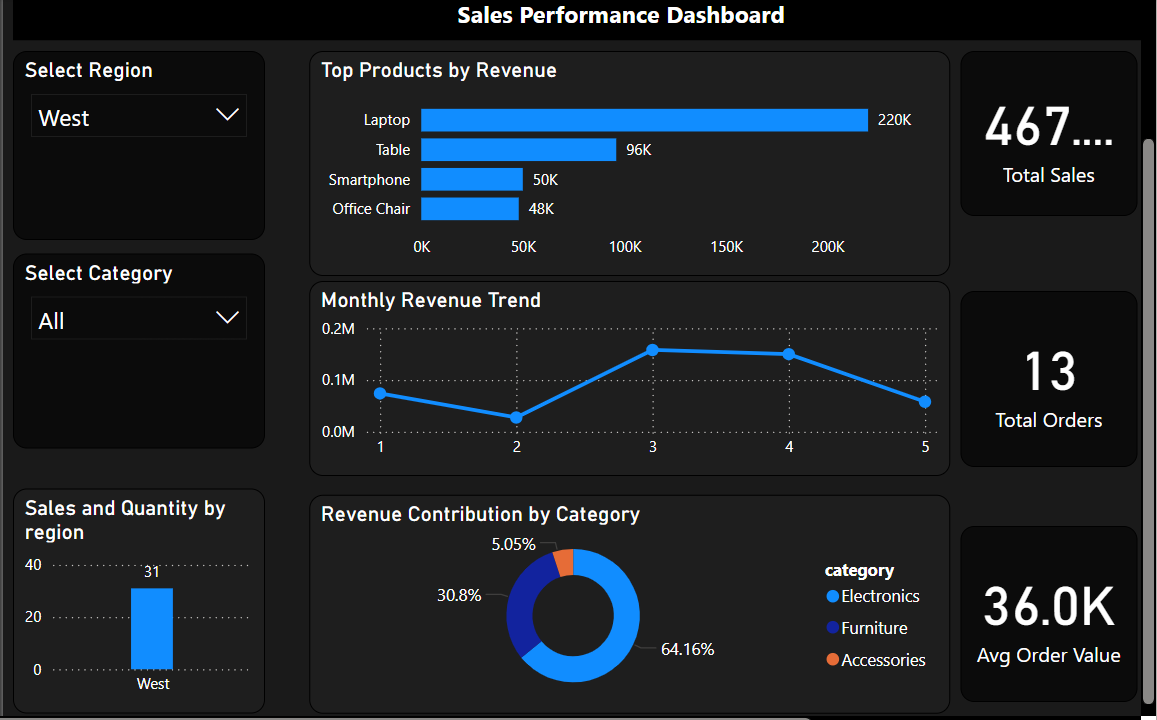

This screenshot's page, from the dashboard's own definition file:
{"tool":"powerbi","page":{"name":"Page 1","canvas":[1280,720],"ordinal":0},"visuals":[{"type":"donutChart","title":"Revenue Contribution  by Category","fields":{"Y":["Query1.total sales"],"Category":["Query1.category"]},"box":[245,531,513,175],"z":0},{"type":"lineChart","title":"Monthly Revenue Trend","fields":{"Y":["Query1.total sales"],"Category":["Query1.order_month"]},"box":[245,360,513,156],"z":1000},{"type":"clusteredColumnChart","title":"Sales and Quantity by region","fields":{"Category":["Query1.region"],"Y":["Sum(Query1.quantity)"]},"box":[8,526,202,180],"z":2000},{"type":"clusteredBarChart","title":"Top Products by Revenue","fields":{"Y":["Query1.total sales"],"Category":["Query1.product_name"]},"box":[245,176,513,180],"z":3000},{"type":"card","fields":{"Values":["Query1.total sales"]},"box":[766,176,142,132],"z":4000},{"type":"slicer","title":"Select Category","fields":{"Values":["Query1.category"]},"box":[8,338,202,156],"z":5000},{"type":"card","fields":{"Values":["Query1.Total Orders"]},"box":[766,368,142,141],"z":6000},{"type":"card","fields":{"Values":["Query1.Avg Order Value"]},"box":[766,556,142,141],"z":7000},{"type":"slicer","title":"Select Region","fields":{"Values":["Query1.region"]},"box":[8,176,202,151],"z":8000},{"type":"textbox","box":[8,129,974,38],"z":9000}]}

Visuals, with their boxes on the page's 1280x720 design canvas (x1, y1, x2, y2). These are canvas units, not pixel positions in the 1157x720 screenshot, which may show the page scaled, cropped or inside an application window:
"Revenue Contribution  by Category" donutChart: left=245, top=531, right=758, bottom=706
"Monthly Revenue Trend" lineChart: left=245, top=360, right=758, bottom=516
"Sales and Quantity by region" clusteredColumnChart: left=8, top=526, right=210, bottom=706
"Top Products by Revenue" clusteredBarChart: left=245, top=176, right=758, bottom=356
card - Query1.total sales: left=766, top=176, right=908, bottom=308
"Select Category" slicer: left=8, top=338, right=210, bottom=494
card - Query1.Total Orders: left=766, top=368, right=908, bottom=509
card - Query1.Avg Order Value: left=766, top=556, right=908, bottom=697
"Select Region" slicer: left=8, top=176, right=210, bottom=327
textbox: left=8, top=129, right=982, bottom=167
